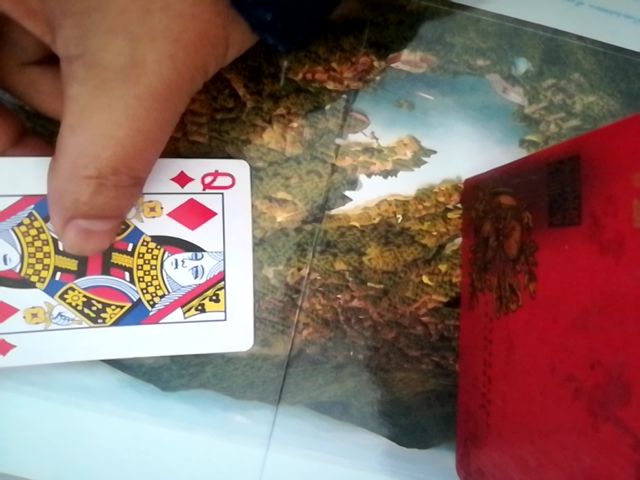fk q: (4, 152, 259, 375)
